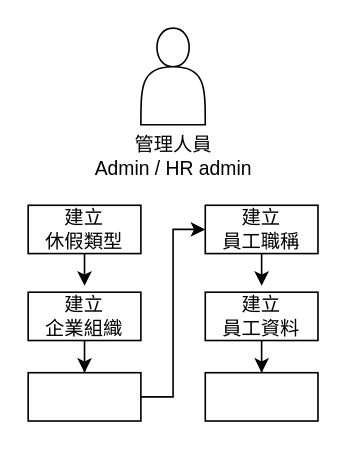
Image size: 346x449. Some labels were removed from this diagram. Here are the shapes that lost their labels. From the top down, the centre of each, then its label:
At [84,396]: "建立合約 類別名單".
At [261,396]: "額外設定 享有休假天數".
